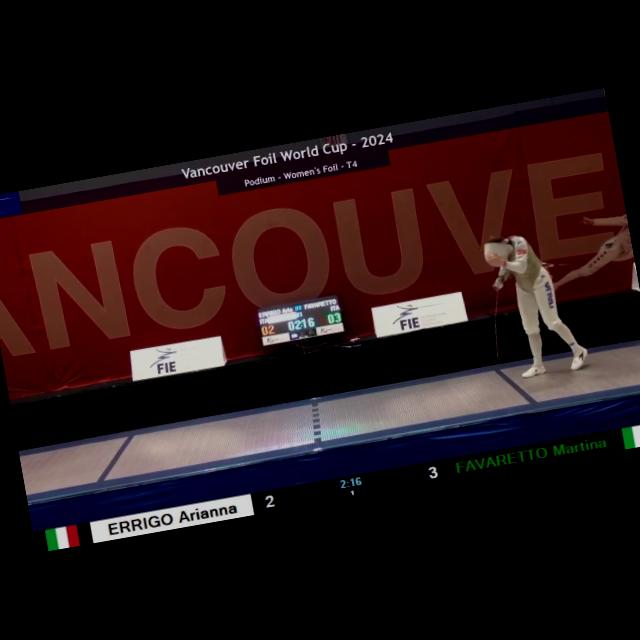blade: (481, 278, 516, 360)
